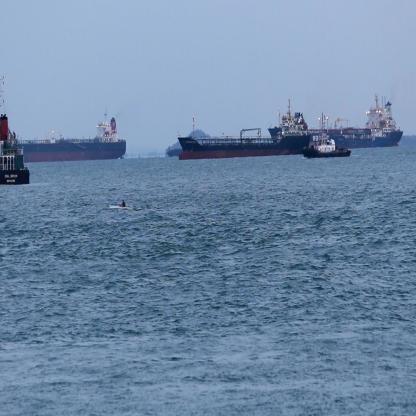Container Ship: (178, 98, 310, 161), (16, 107, 127, 163), (308, 94, 404, 151), (166, 145, 184, 158)
